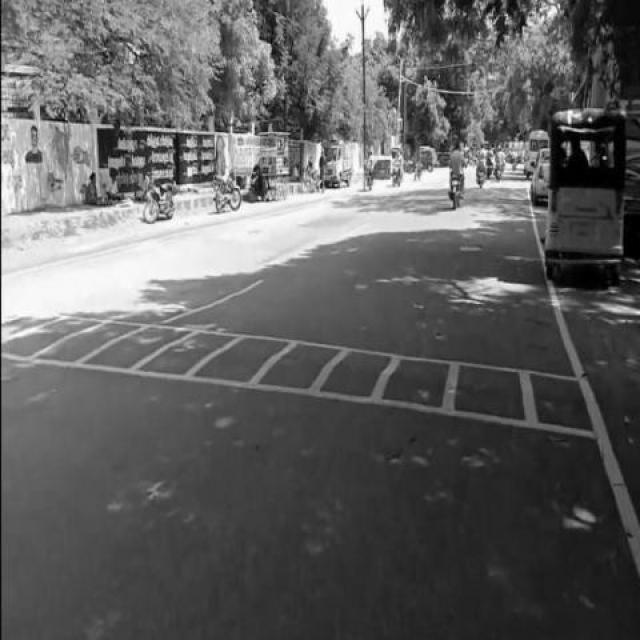Speed Bump: (1, 314, 594, 433)
